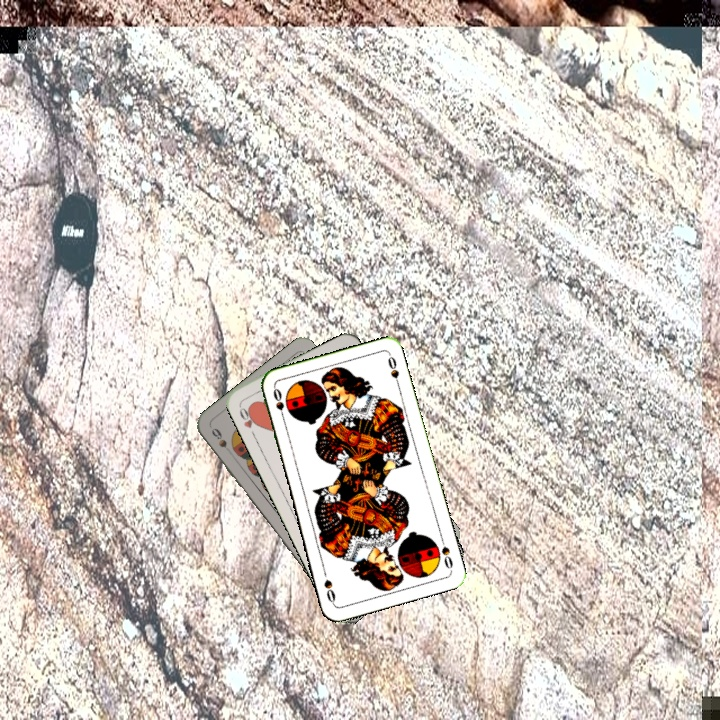HO: (235, 401, 261, 439)
S9: (207, 424, 230, 450)
SO: (269, 384, 288, 424), (436, 533, 455, 573)
